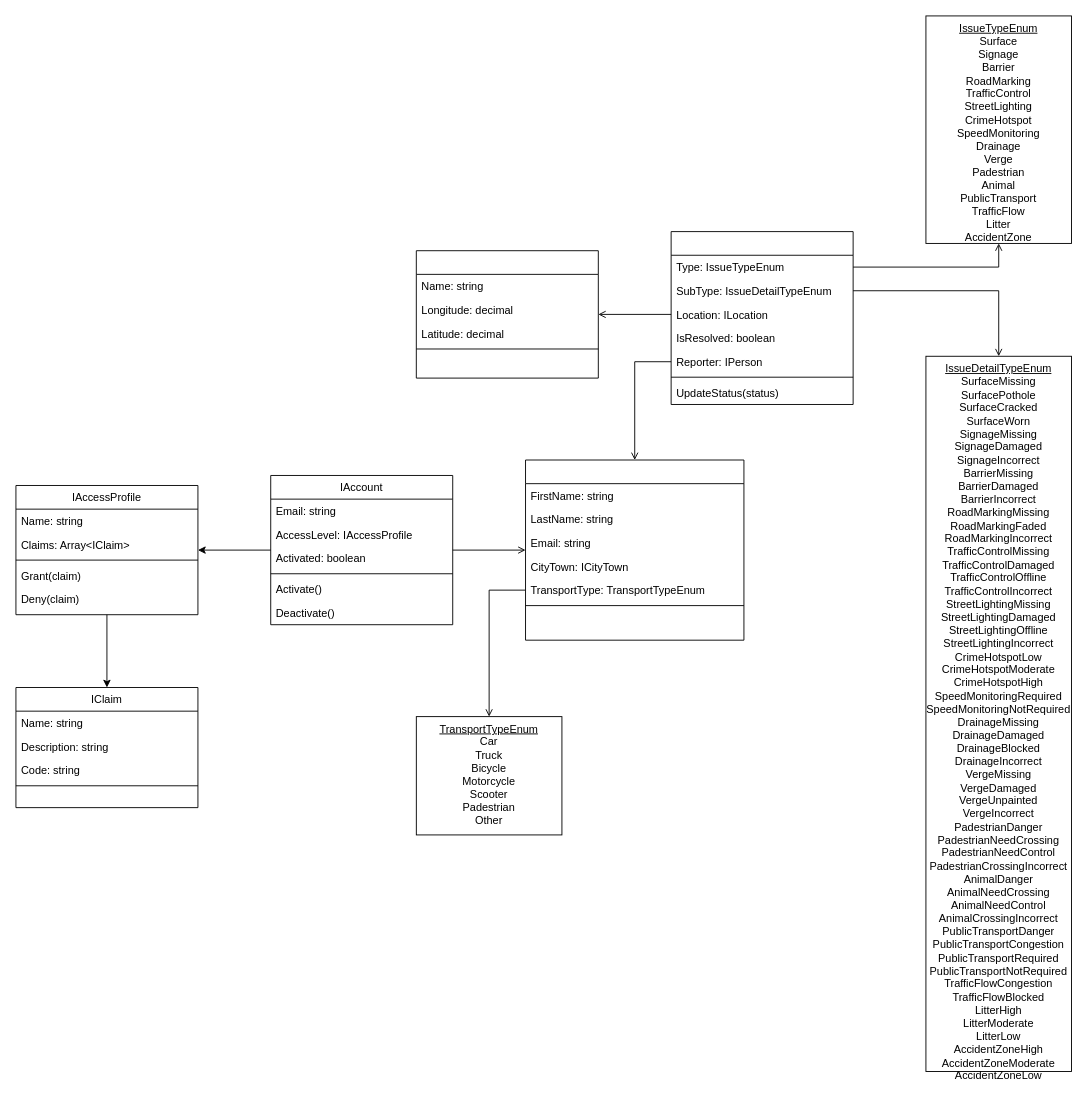
The diagram is 1087 pixels wide and 1098 high, and some of its shapes have lost their labels. The shapes that lost their labels are listed below. From the top down, each one's box as (x1, y1, x2, y2) in pixels, then its label:
(415, 250, 598, 378): ILocation
(670, 231, 853, 404): IIssue
(525, 459, 744, 640): IPerson
